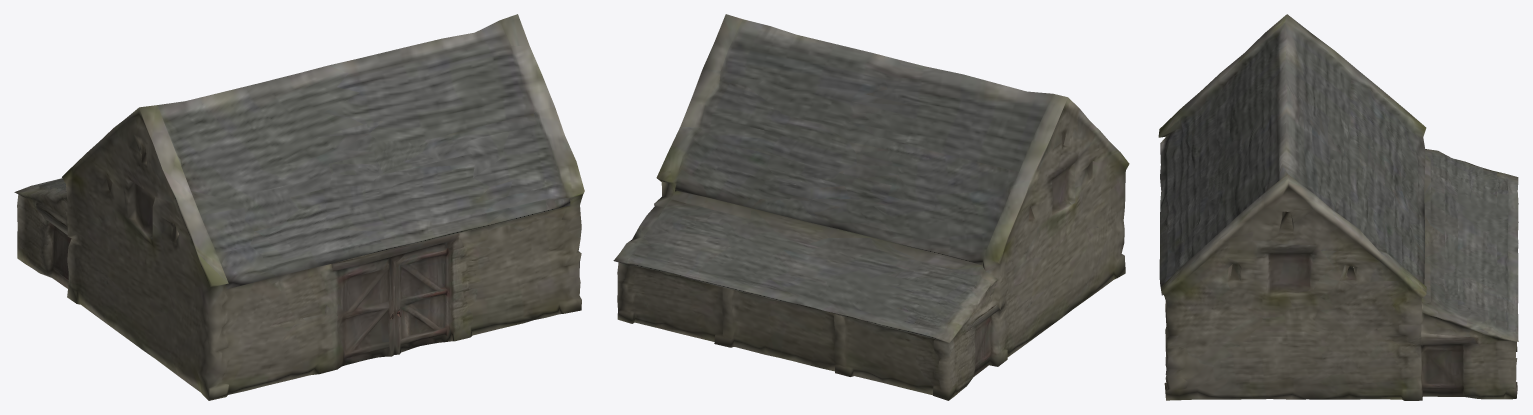
File: stone_barn.glb
The picture shows the model from 3 angles, left to right: view 1: azimuth 30°, elevation 25°; view 2: azimuth 150°, elevation 25°; view 3: azimuth 270°, elevation 25°; orthographic projection. The views are drawn at different scales.
Visible parts, largest first — view 1: tripo_node_8f8c92b7-1124-4426-8797-6261cde151f0; view 2: tripo_node_8f8c92b7-1124-4426-8797-6261cde151f0; view 3: tripo_node_8f8c92b7-1124-4426-8797-6261cde151f0.
Boxes of the visible parts, <box> form: tripo_node_8f8c92b7-1124-4426-8797-6261cde151f0: <box>14,14,584,400</box>; tripo_node_8f8c92b7-1124-4426-8797-6261cde151f0: <box>613,14,1129,400</box>; tripo_node_8f8c92b7-1124-4426-8797-6261cde151f0: <box>1158,14,1518,400</box>.
Bounding box in the file's own units: 0.9802 × 0.6085 × 0.8903.
1 material, 1 textured.
